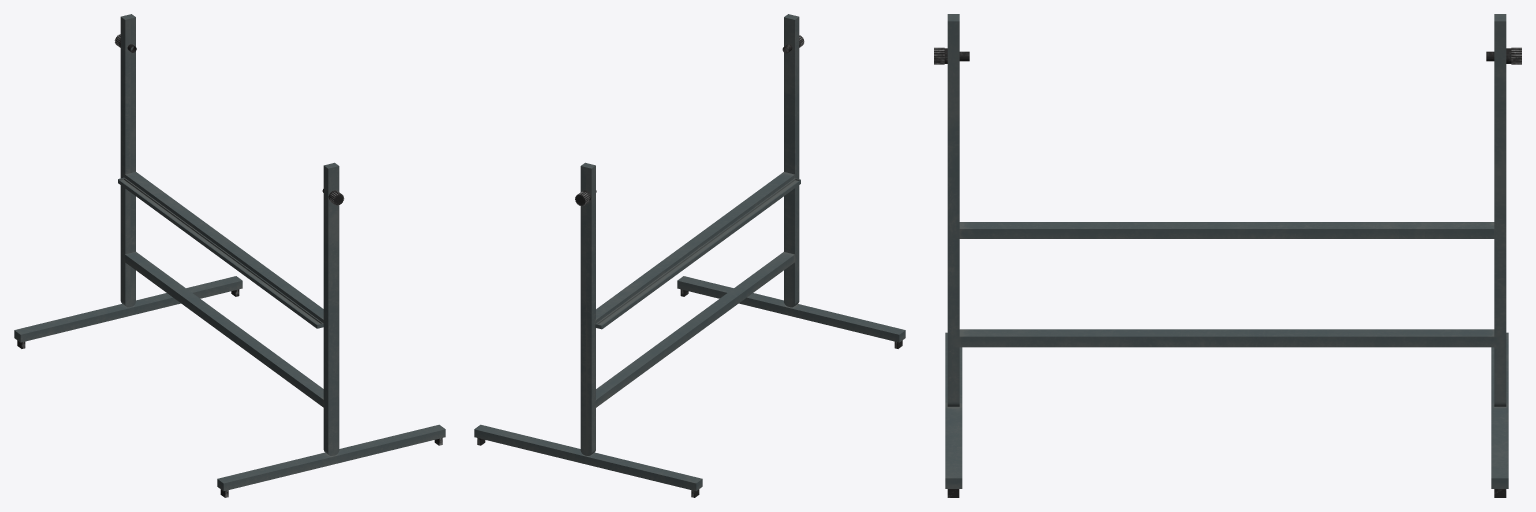
The model's file is Stand.fbx.
3 views of the same model, side by side, from view 1: azimuth 30°, elevation 25°; view 2: azimuth 150°, elevation 25°; view 3: azimuth 270°, elevation 25° (orthographic). The views are drawn at different scales.
Parts seen in each view (by area): view 1: White_board; view 2: White_board; view 3: White_board.
Part boxes in pixels (box(x1,y1,x2,y2)): White_board: box(14, 14, 445, 497); White_board: box(474, 14, 905, 497); White_board: box(934, 14, 1521, 497).
Bounding box in the file's own units: 100 × 131 × 170.
Materials: 1 (1 with a texture image).
